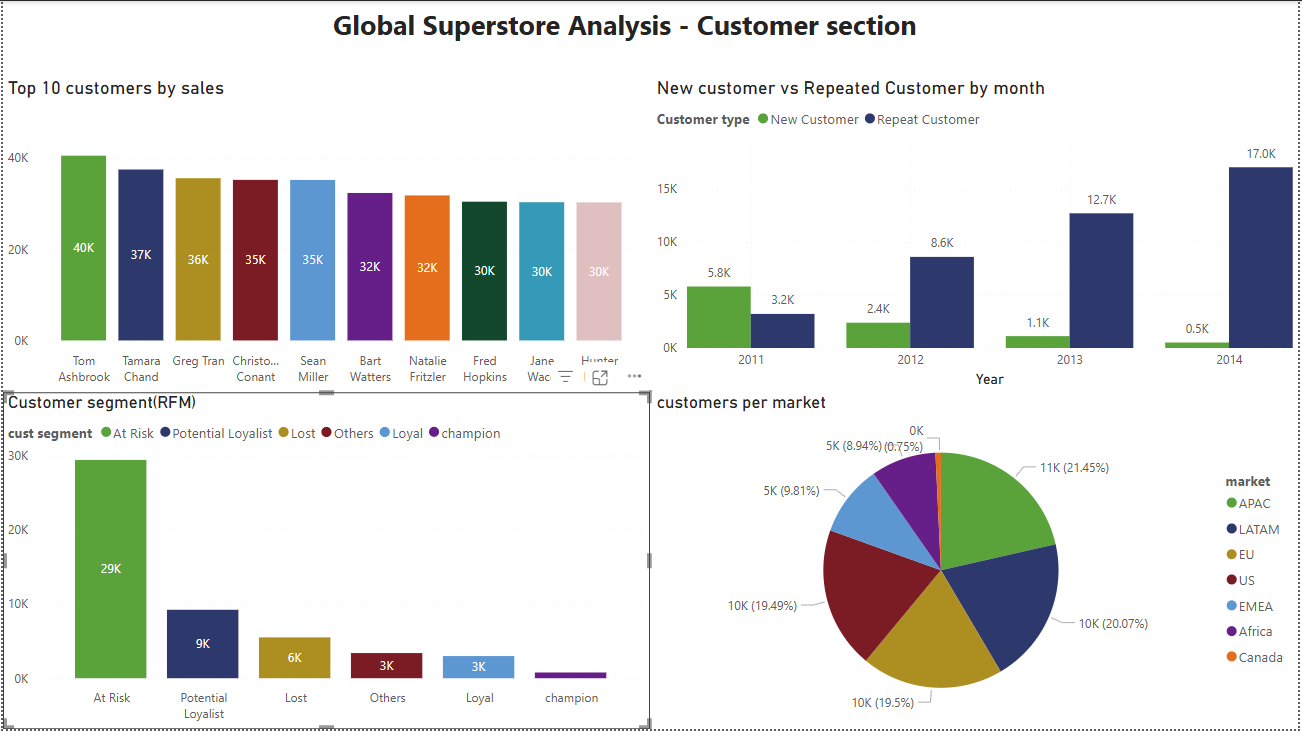

Layout of this report page (visuals, bound fields, positions):
{"tool":"powerbi","page":{"name":"Customer analysis","canvas":[1280,720],"ordinal":0},"visuals":[{"type":"textbox","box":[107.5,0,1014.3,45.7],"z":0},{"type":"clusteredColumnChart","title":"New customer vs Repeated Customer by month","fields":{"Series":["public superstore.Customer type"],"Y":["public superstore.count of Customer ID"],"Category":["public superstore.order_date.Variation.Date Hierarchy.Year"]},"box":[641.2,57.5,638.8,328.8],"z":1000},{"type":"pieChart","title":"customers per market","fields":{"Category":["public superstore.market"],"Y":["public superstore.count of Customer ID"]},"box":[641,387,639,333],"z":2000},{"type":"stackedAreaChart","title":"Yearwise customer growth per region","fields":{"Category":["public superstore.order_date.Variation.Date Hierarchy.Year"],"Series":["public superstore.market"],"Y":["public superstore.Total_order"]},"box":[0,57.5,641.2,327.5],"z":3000},{"type":"columnChart","fields":{"Category":["public superstore.cust segment"],"Y":["public superstore.count of Customer ID"],"Series":["public superstore.cust segment"]},"box":[0,387,641,333],"z":4000}]}

Visuals, with their boxes in screenshot pixels (x1, y1, x2, y2), scaled from the page's 1280x720 canvas onto the 1302x732 screenshot:
textbox: (left=109, top=0, right=1141, bottom=46)
"New customer vs Repeated Customer by month" clusteredColumnChart: (left=652, top=58, right=1301, bottom=393)
"customers per market" pieChart: (left=652, top=393, right=1301, bottom=731)
"Yearwise customer growth per region" stackedAreaChart: (left=0, top=58, right=652, bottom=391)
columnChart - public superstore.cust segment x public superstore.count of Customer ID: (left=0, top=393, right=652, bottom=731)
